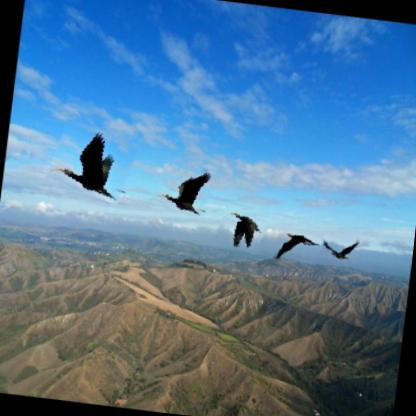bird: (48, 121, 137, 202), (153, 157, 215, 219), (215, 207, 267, 253), (273, 226, 323, 270), (320, 230, 362, 263)
